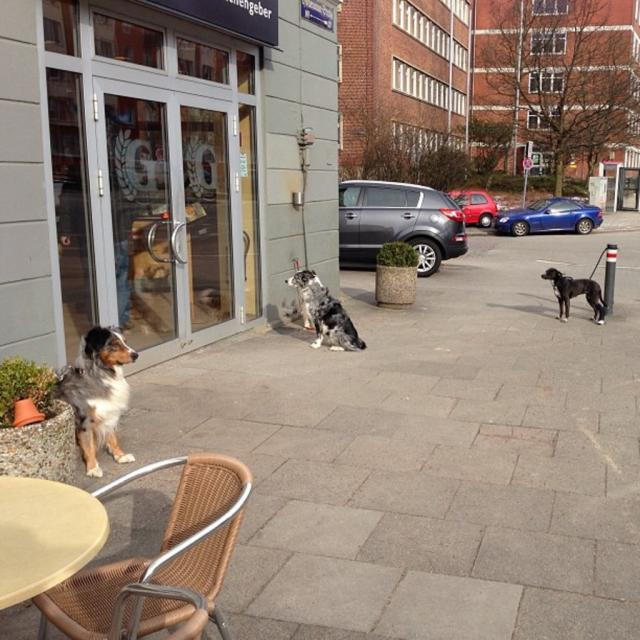car: (494, 193, 601, 237)
